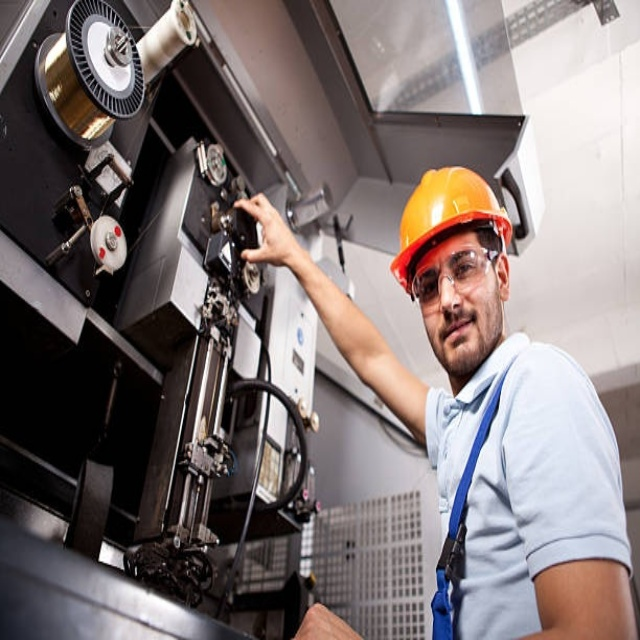Gafas: (411, 245, 500, 308)
Sin_guantes: (233, 182, 297, 273)
Sin_mascara: (437, 307, 481, 361)
